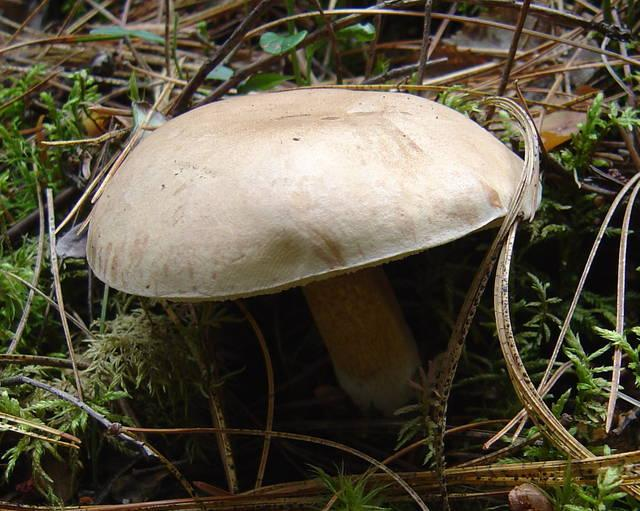poisonous_mushroom: (81, 84, 544, 418)
